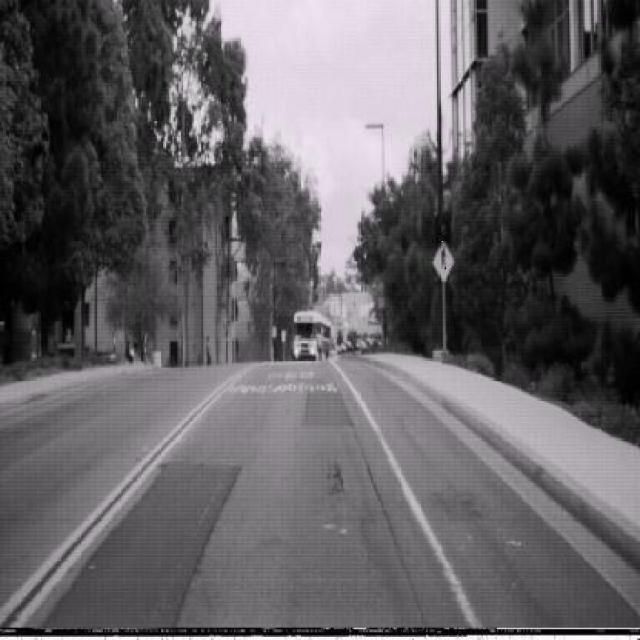pedestrianCrossing: (430, 238, 454, 282)
